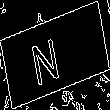N_N: (38, 25, 72, 85)
